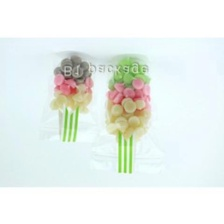snack: (83, 48, 171, 183), (35, 45, 100, 148)
